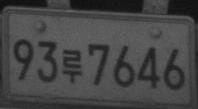3: (36, 40, 58, 83)
4: (136, 46, 161, 90)
6: (162, 47, 186, 91), (112, 44, 135, 87)
7: (86, 43, 110, 86)
9: (12, 37, 34, 80)
루: (62, 48, 82, 83)
